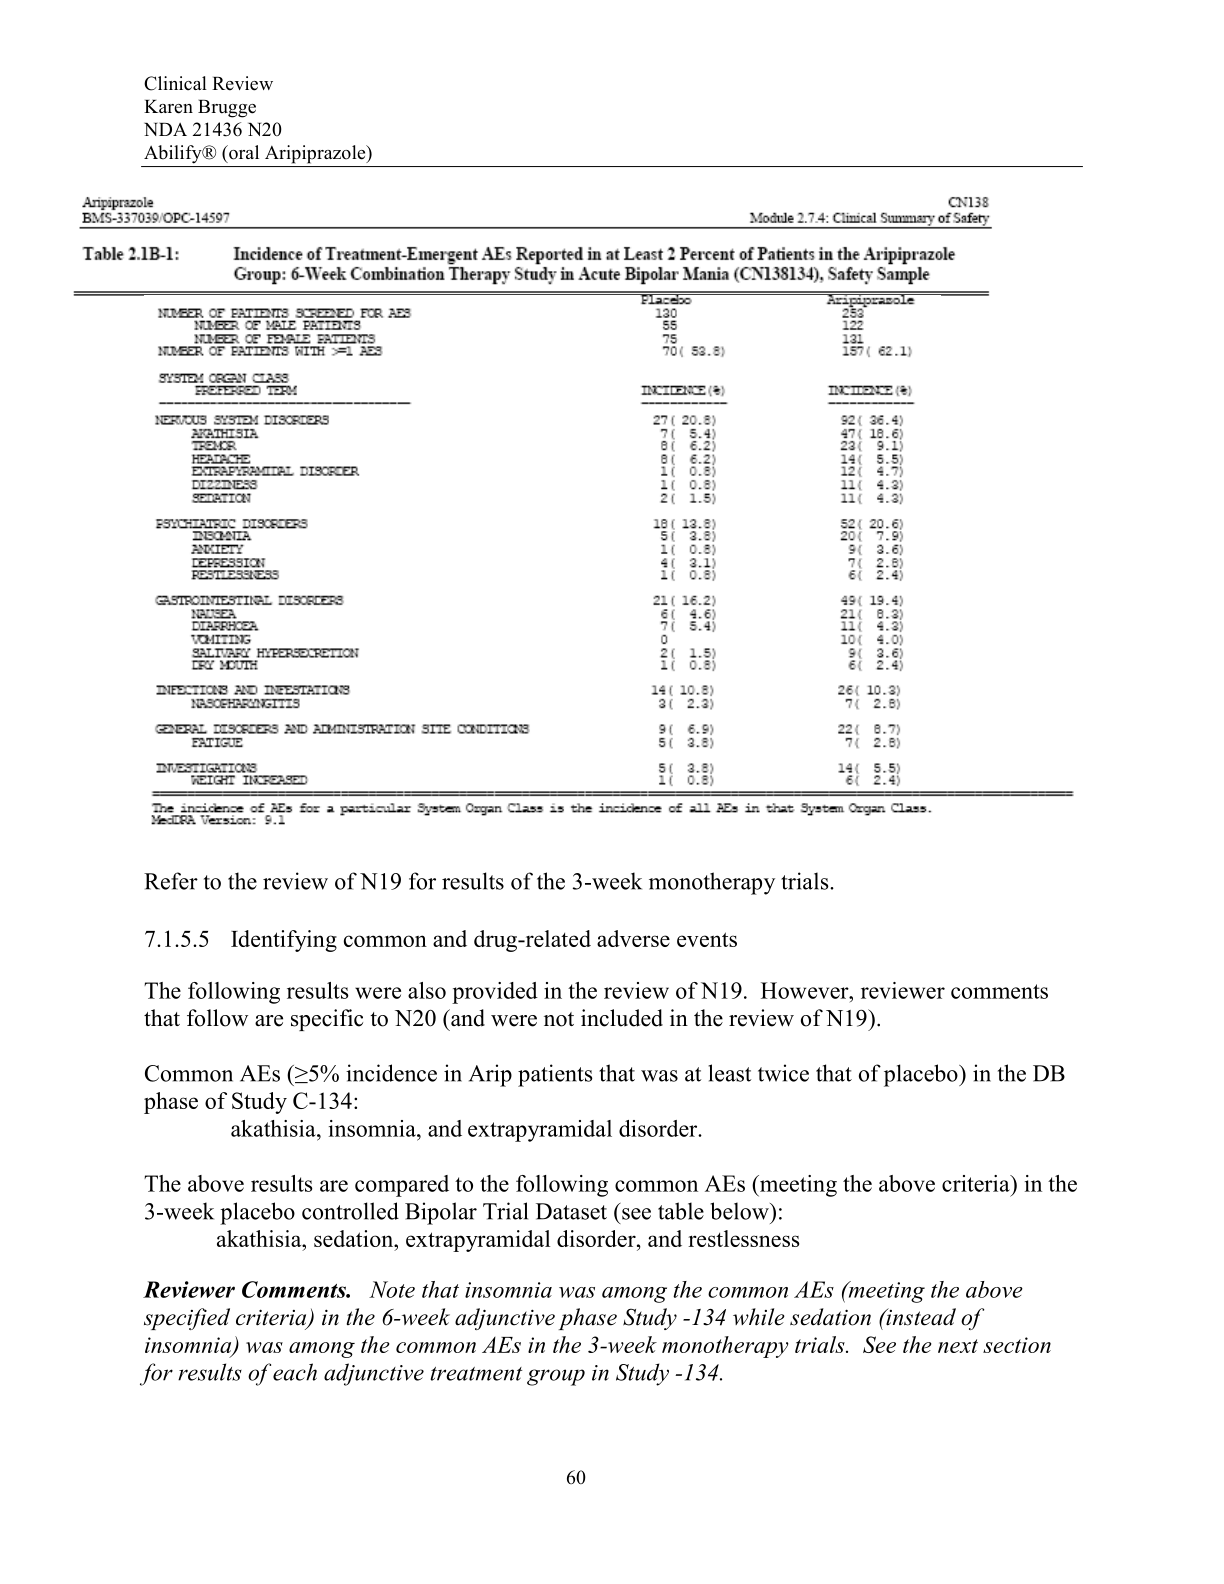partial_lined: (75, 291, 1076, 798)
